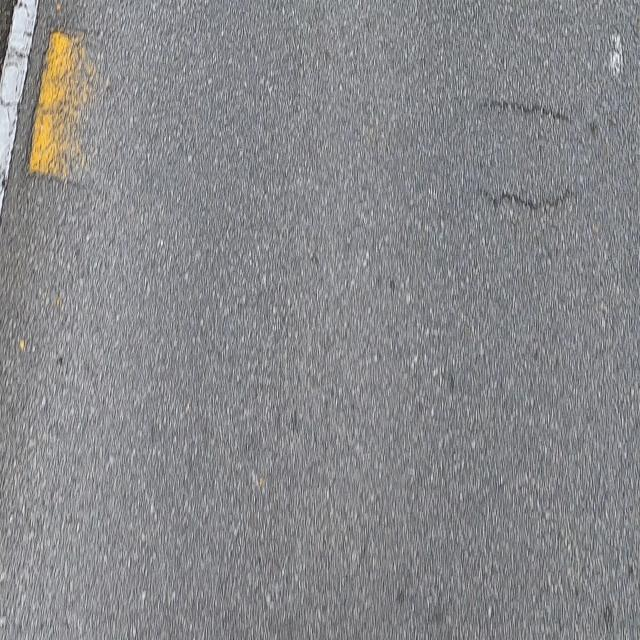Retak-Melintang: (482, 96, 574, 126), (486, 184, 574, 212)
